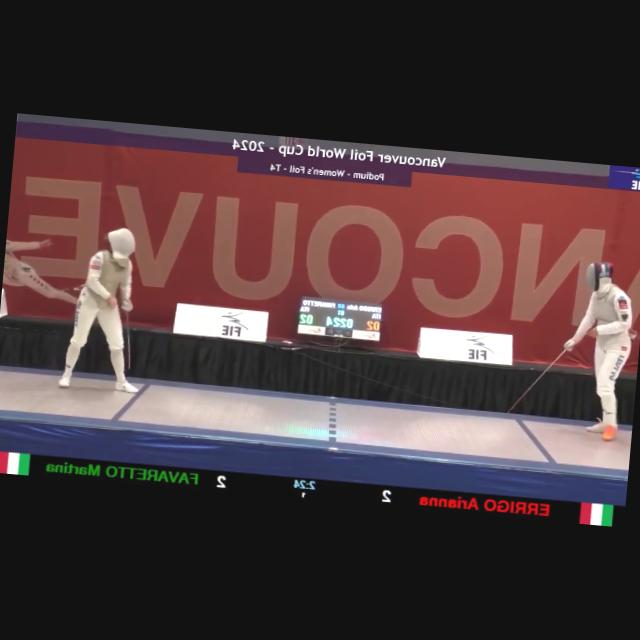blade: (504, 334, 572, 422), (114, 298, 136, 370)
